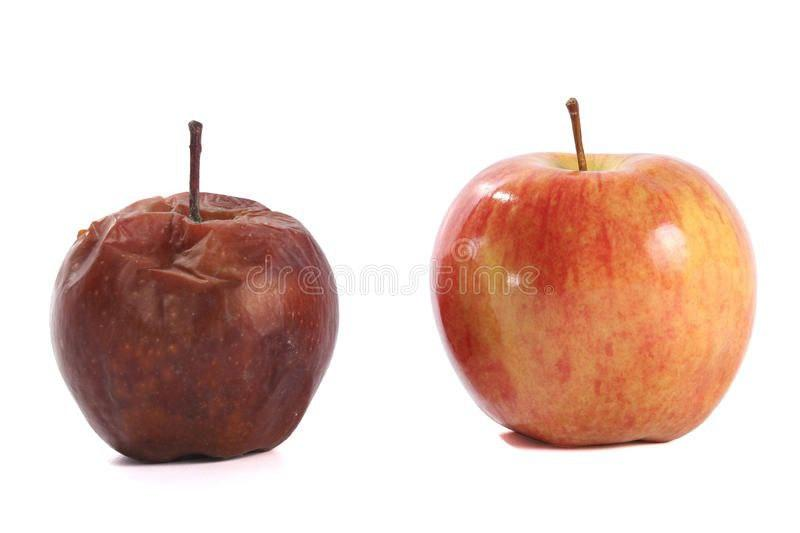Apple: (428, 154, 760, 445), (51, 192, 338, 462)
